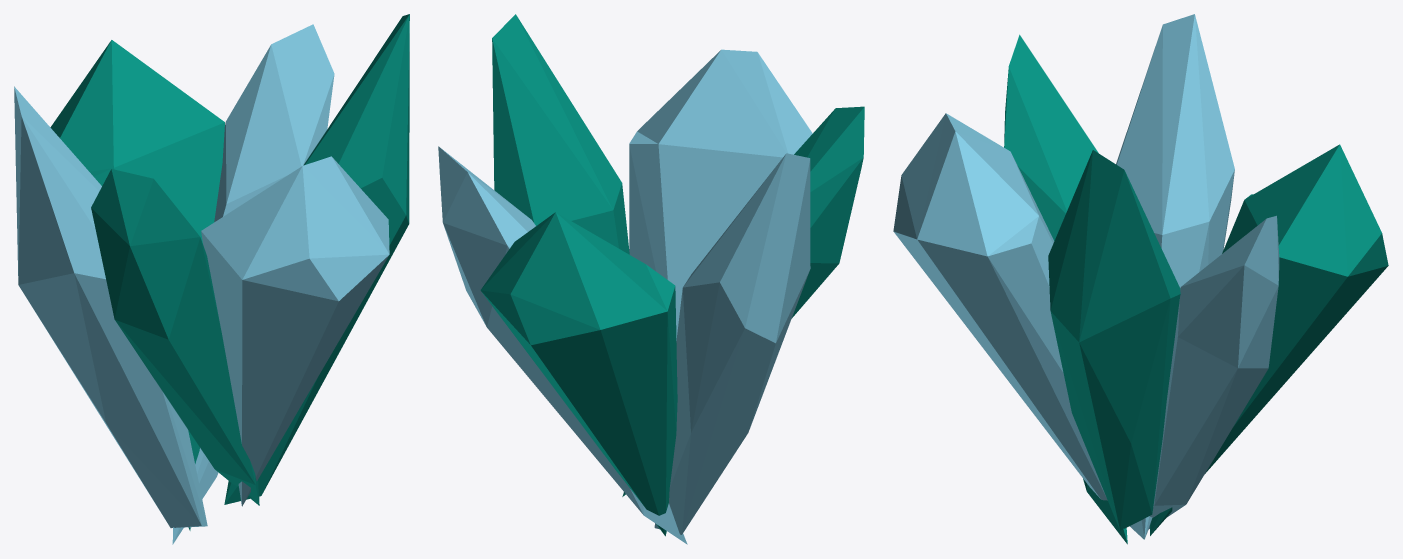
The model's file is jewel_blue_mini.fbx.
3 views of the same model, side by side, from view 1: azimuth 30°, elevation 25°; view 2: azimuth 150°, elevation 25°; view 3: azimuth 270°, elevation 25° (orthographic). The views are drawn at different scales.
Parts seen in each view (by area): view 1: Cube.003; view 2: Cube.003; view 3: Cube.003.
Boxes of the visible parts, left/top/right/bottom form: Cube.003: left=14, top=14, right=409, bottom=544; Cube.003: left=438, top=14, right=864, bottom=544; Cube.003: left=893, top=14, right=1388, bottom=544.
Bounding box in the file's own units: 327 × 432 × 402.
